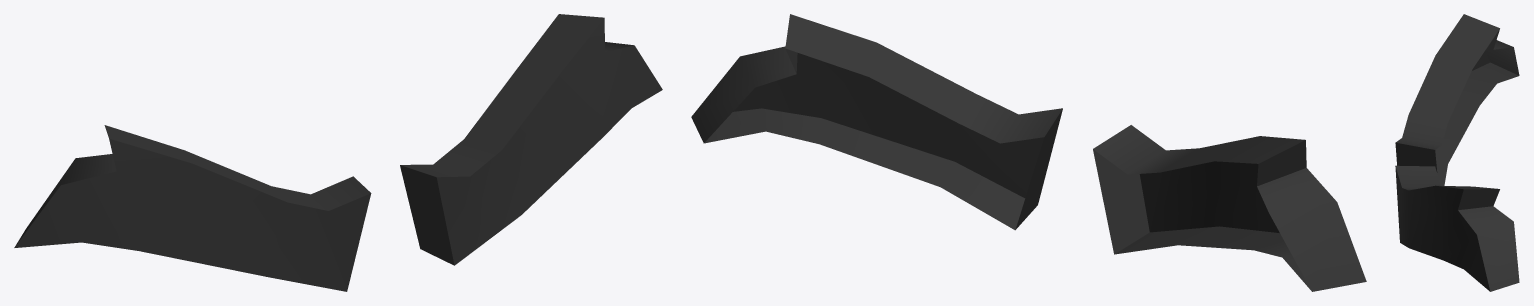
File: Brow_Black_7.fbx
3 views of the same model, side by side, from view 1: azimuth 30°, elevation 25°; view 2: azimuth 150°, elevation 25°; view 3: azimuth 270°, elevation 25° (orthographic). The views are drawn at different scales.
Visible parts, largest first — view 1: Brow_Black_7; view 2: Brow_Black_7; view 3: Brow_Black_7.
Part boxes in pixels (left/top/right/bottom): Brow_Black_7: left=14, top=14, right=662, bottom=291; Brow_Black_7: left=691, top=14, right=1366, bottom=291; Brow_Black_7: left=1395, top=14, right=1519, bottom=291.
Size of the model in its own units: 38.5 by 9.68 by 8.8.
